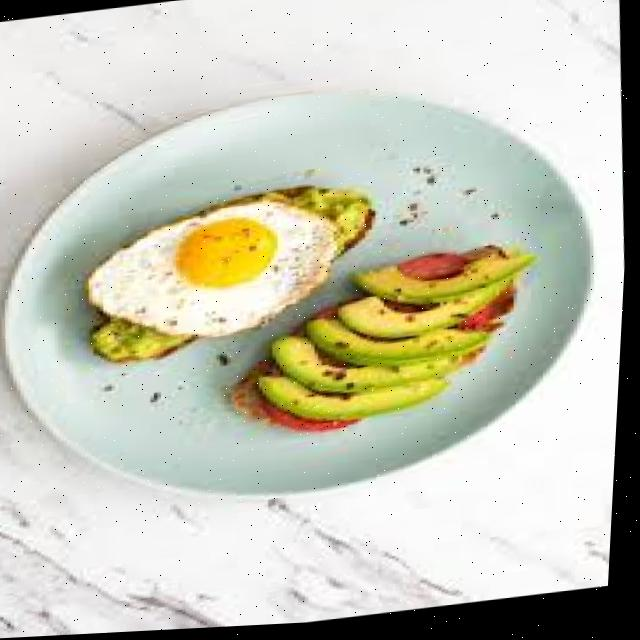Egg: (92, 190, 371, 337)
